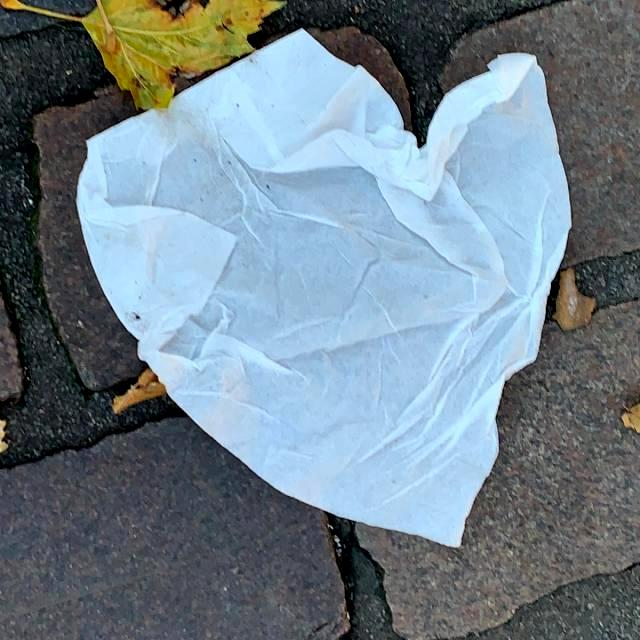Paper: (72, 26, 572, 550)
